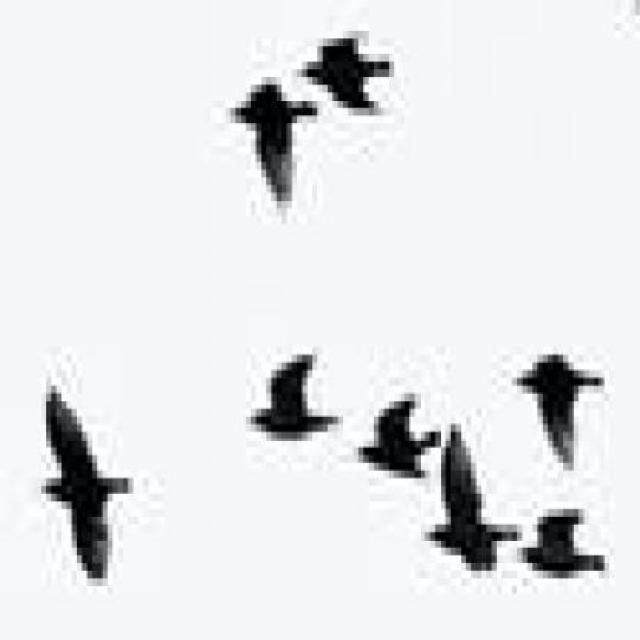bird: (28, 388, 130, 614), (425, 404, 522, 591), (234, 30, 318, 202), (506, 322, 612, 458), (233, 328, 344, 457), (518, 333, 612, 462), (298, 26, 404, 116), (354, 389, 446, 491), (514, 496, 617, 584), (619, 0, 635, 77)
